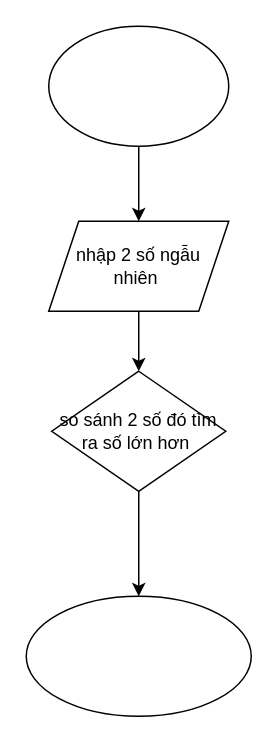
Some shapes in this 278 by 743 pixel diagram are drawn without their labels. The shapes that lost their labels are listed below. From the top down, each one's box as (x1, y1, x2, y2) in pixels, then its label:
(47, 25, 229, 146): start
(25, 595, 251, 716): kết thúc
